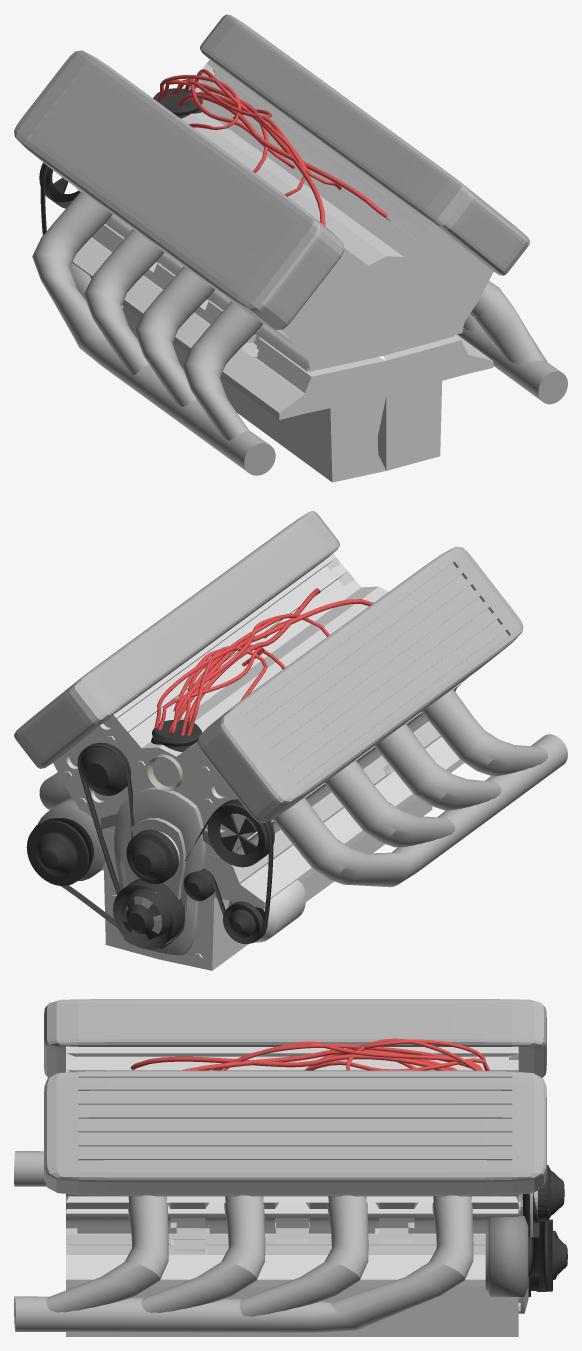
3 views of the same model, one above another, from view 1: azimuth 30°, elevation 25°; view 2: azimuth 150°, elevation 25°; view 3: azimuth 270°, elevation 25° (orthographic). The views are drawn at different scales.
Visible parts, largest first — view 1: Cylinder.009, Cube.002, Cylinder.008, Cube.003, Cylinder.037, Cylinder.016, Cylinder, Cylinder.010; view 2: Cube.002, Cylinder.009, Cylinder.008, Cube.003, Cube, Cylinder.016, Cylinder.002, Cylinder.012, Cylinder, Curve.001, Cylinder.003, Cylinder.004 (+6 smaller); view 3: Cube.003, Cylinder.009, Cylinder.037, Cube.002, Cylinder.016, Cylinder.001, Cylinder.012, Cylinder.008, Cylinder.003.
Part boxes in pixels (<box>): Cylinder.009: <box>72,60,493,482</box>; Cube.002: <box>14,50,344,330</box>; Cylinder.008: <box>32,191,275,475</box>; Cube.003: <box>200,14,530,275</box>; Cylinder.037: <box>457,281,567,404</box>; Cylinder.016: <box>157,69,390,225</box>; Cylinder: <box>39,162,79,208</box>; Cylinder.010: <box>153,88,202,118</box>; Cube.002: <box>197,546,523,822</box>; Cylinder.009: <box>53,553,465,970</box>; Cylinder.008: <box>273,689,567,887</box>; Cube.003: <box>14,511,339,768</box>; Cube: <box>114,787,205,955</box>; Cylinder.016: <box>154,588,373,735</box>; Cylinder.002: <box>113,878,184,949</box>; Cylinder.012: <box>26,818,93,885</box>; Cylinder: <box>207,799,274,867</box>; Curve.001: <box>77,743,273,947</box>; Cylinder.003: <box>126,829,178,883</box>; Cylinder.004: <box>80,743,130,795</box>; Cube.003: <box>44,1070,546,1195</box>; Cylinder.009: <box>66,1046,518,1336</box>; Cylinder.037: <box>14,1195,473,1332</box>; Cube.002: <box>44,999,546,1077</box>; Cylinder.016: <box>130,1038,490,1070</box>; Cylinder.001: <box>485,1216,528,1296</box>; Cylinder.012: <box>528,1221,567,1291</box>; Cylinder.008: <box>14,1151,46,1186</box>; Cylinder.003: <box>538,1165,564,1221</box>.
Size of the model in its own units: 7.75 by 6.17 by 11.23.
